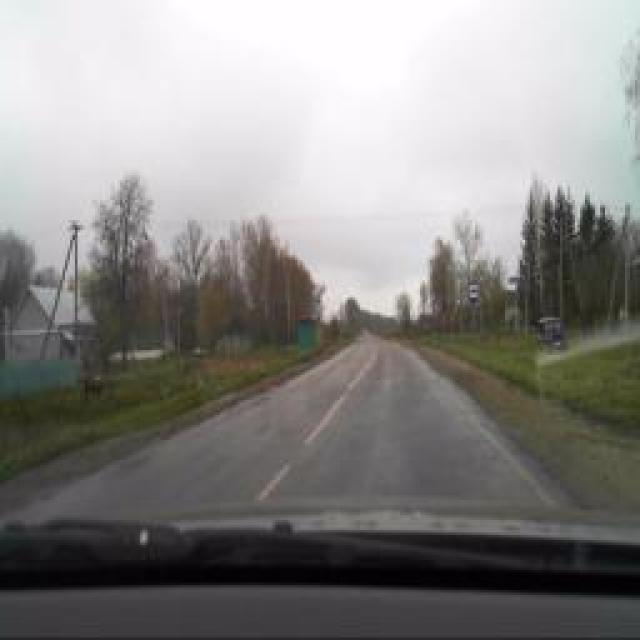sign: (431, 297, 441, 315)
